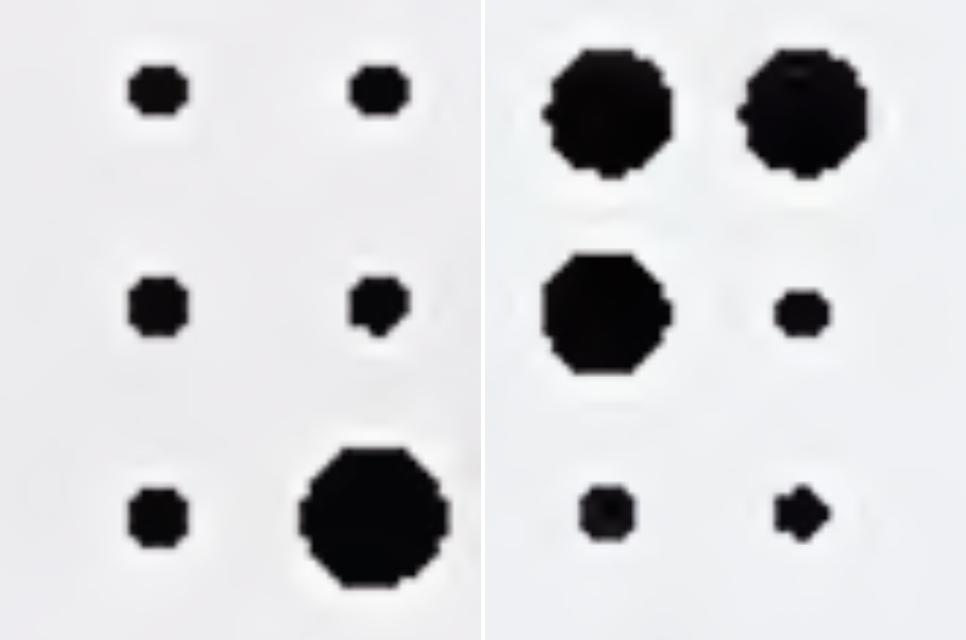capital_sign: (129, 66, 450, 594)
letter_F: (541, 46, 868, 546)
